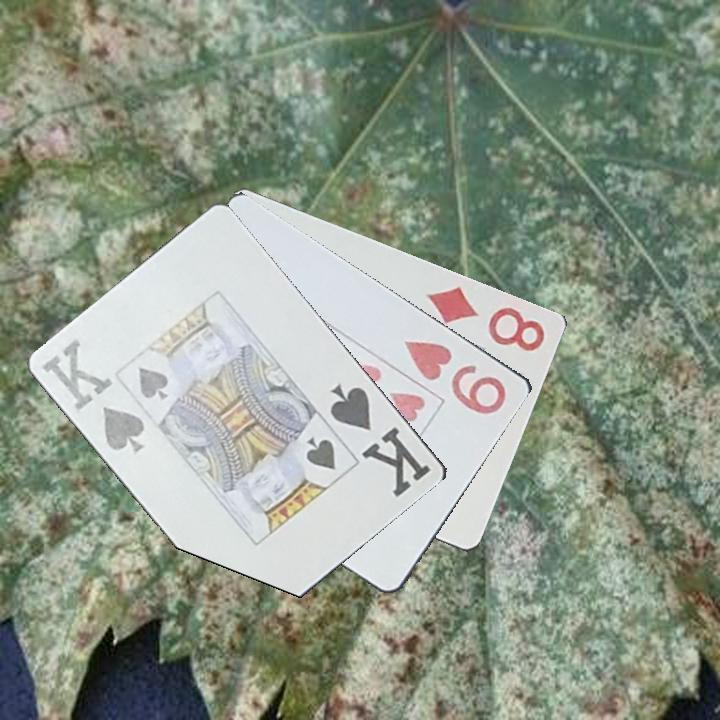8d: (423, 282, 549, 355)
9h: (400, 332, 510, 418)
Ks: (326, 379, 435, 501), (39, 335, 149, 455)
